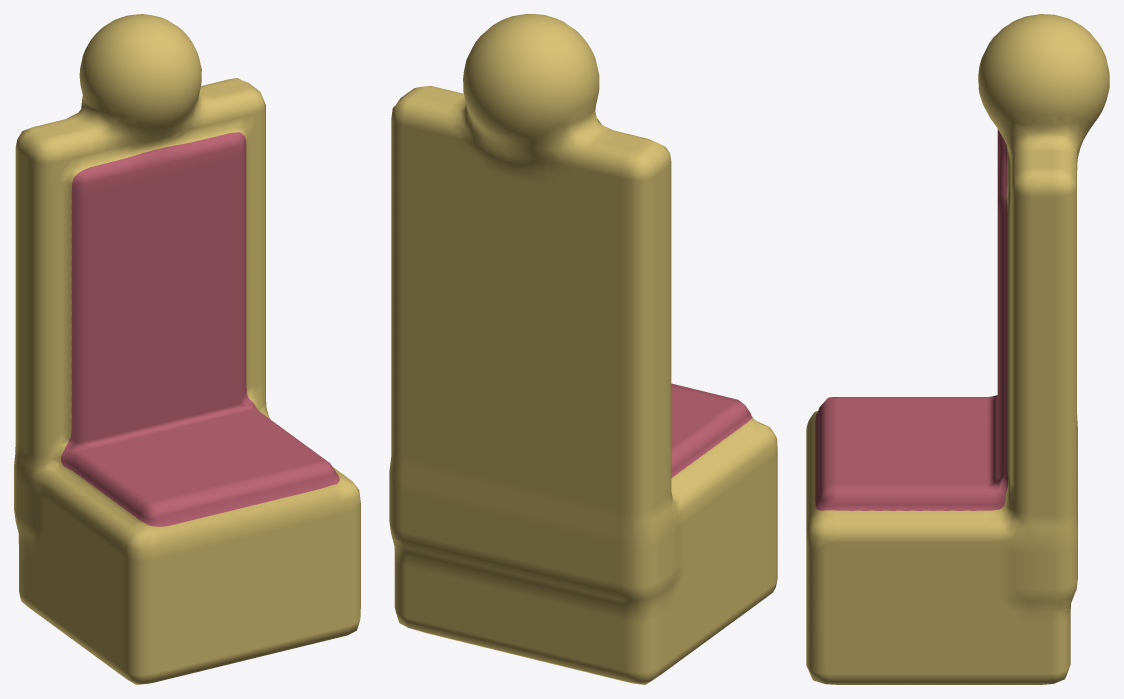
Rendered from throne.glb.
The picture shows the model from 3 angles, left to right: view 1: azimuth 30°, elevation 25°; view 2: azimuth 150°, elevation 25°; view 3: azimuth 270°, elevation 25°; orthographic projection. The views are drawn at different scales.
Visible parts, largest first — view 1: throne; view 2: throne; view 3: throne.
Part boxes in pixels (bbox=[...]): throne: bbox=[14, 14, 360, 684]; throne: bbox=[389, 14, 777, 684]; throne: bbox=[806, 14, 1109, 684].
Size of the model in its own units: 45 by 102 by 45.95.
